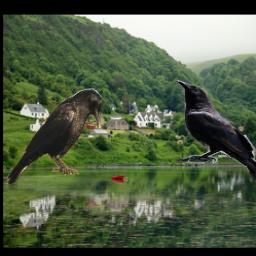Crow: (5, 89, 102, 185), (177, 80, 256, 183)
